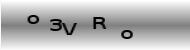3: (48, 16, 62, 30)
R: (91, 15, 108, 30)
V: (62, 21, 77, 35)
o: (119, 28, 134, 39), (26, 13, 40, 24)
